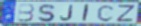B: (17, 4, 36, 23)
C: (96, 4, 116, 22)
I: (81, 4, 91, 23)
J: (59, 5, 74, 22)
S: (37, 3, 56, 22)
Z: (115, 4, 137, 23)
